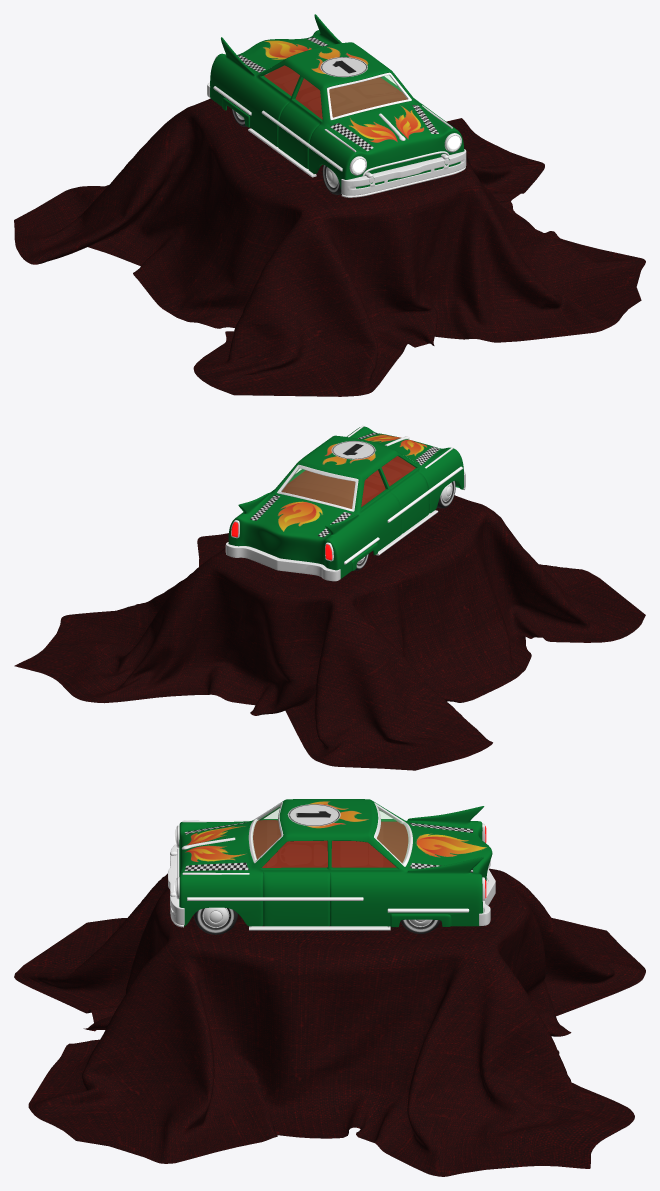
Rendered from ToyCar.gltf.
The picture shows the model from 3 angles, top to bottom: view 1: azimuth 30°, elevation 25°; view 2: azimuth 150°, elevation 25°; view 3: azimuth 270°, elevation 25°; orthographic projection. The views are drawn at different scales.
Parts seen in each view (by area): view 1: Fabric, ToyCar, Glass; view 2: Fabric, ToyCar, Glass; view 3: Fabric, ToyCar, Glass.
Part boxes in pixels (<box>): Fabric: <box>14,98,645,396</box>; ToyCar: <box>207,14,466,197</box>; Glass: <box>329,75,407,116</box>; Fabric: <box>14,495,645,770</box>; ToyCar: <box>225,425,465,581</box>; Glass: <box>282,468,354,508</box>; Fabric: <box>14,868,645,1176</box>; ToyCar: <box>168,799,495,934</box>; Glass: <box>252,805,409,862</box>.
Bounding box in the file's own units: 0.0734 × 0.0288 × 0.074.
3 materials, 2 textured.
